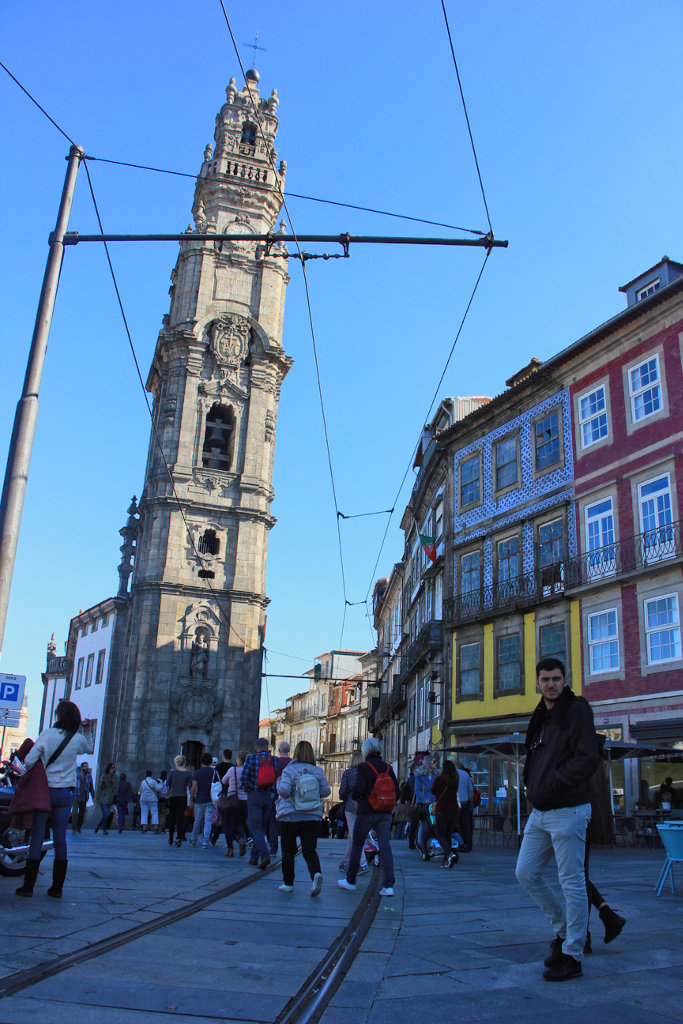clerigos: (111, 37, 295, 797)
